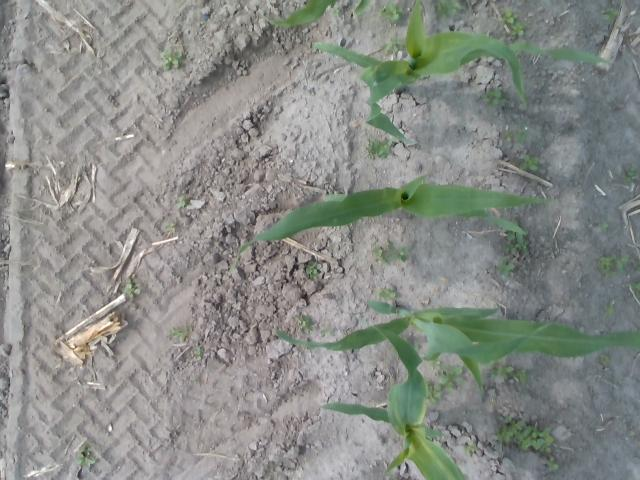Maize: (315, 0, 613, 144), (273, 300, 640, 393), (228, 174, 550, 278), (322, 313, 466, 480), (260, 0, 372, 26)
Weeds: (507, 418, 553, 450), (437, 367, 462, 390), (162, 50, 184, 72), (368, 138, 392, 158), (436, 1, 459, 21), (482, 88, 505, 106), (383, 36, 400, 56), (380, 5, 400, 22), (520, 154, 538, 172), (386, 236, 398, 262), (500, 10, 518, 26), (427, 382, 440, 403), (496, 260, 514, 274), (599, 257, 612, 275), (296, 316, 312, 330), (490, 366, 514, 375), (602, 8, 618, 21), (170, 328, 188, 339), (516, 125, 526, 144), (516, 239, 530, 252), (124, 284, 139, 296), (305, 262, 320, 274), (374, 247, 386, 262), (614, 255, 629, 267), (626, 164, 636, 182), (78, 453, 94, 464), (505, 232, 521, 243), (498, 429, 512, 441), (512, 21, 523, 36), (604, 299, 615, 313), (378, 290, 396, 298), (461, 443, 474, 454), (397, 248, 408, 261), (548, 456, 558, 470), (163, 221, 176, 231), (175, 197, 185, 209), (320, 328, 334, 336), (596, 220, 606, 230), (600, 354, 610, 363), (518, 370, 526, 380), (504, 132, 512, 142), (504, 244, 513, 252), (331, 9, 340, 16), (633, 284, 640, 292), (432, 360, 441, 366), (194, 346, 200, 354), (193, 356, 200, 362)
